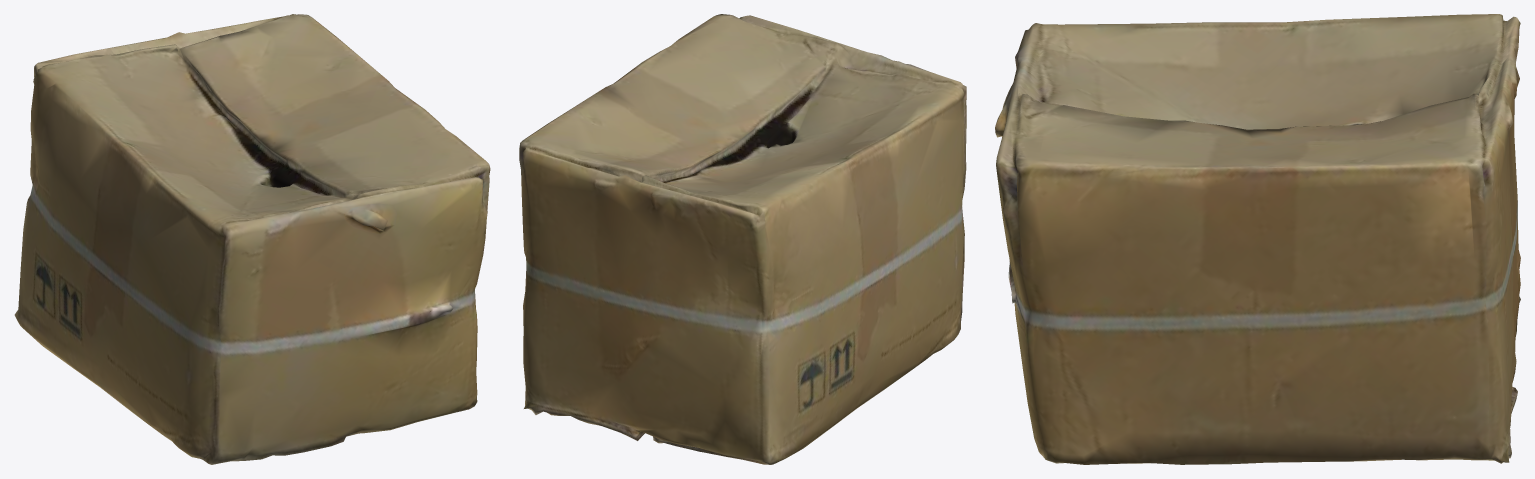
File: cardboard_box_01.glb
3 views of the same model, side by side, from view 1: azimuth 30°, elevation 25°; view 2: azimuth 150°, elevation 25°; view 3: azimuth 270°, elevation 25° (orthographic). The views are drawn at different scales.
Parts seen in each view (by area): view 1: cardboard_box_01; view 2: cardboard_box_01; view 3: cardboard_box_01.
Boxes of the visible parts, left/top/right/bottom form: cardboard_box_01: left=14, top=14, right=490, bottom=464; cardboard_box_01: left=519, top=14, right=966, bottom=464; cardboard_box_01: left=995, top=14, right=1520, bottom=464.
Size of the model in its own units: 0.3868 by 0.3418 by 0.5159.
Materials: 1 (1 with a texture image).
